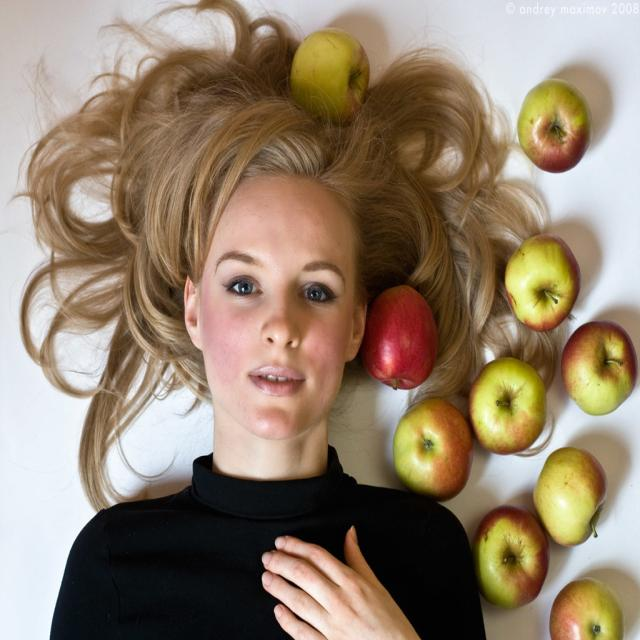Healty Apple: (392, 398, 486, 506), (360, 287, 440, 391), (473, 507, 551, 612), (289, 28, 370, 128), (467, 358, 548, 456), (531, 448, 609, 549), (514, 80, 596, 176), (504, 236, 583, 330), (562, 321, 638, 415), (550, 576, 625, 639)
